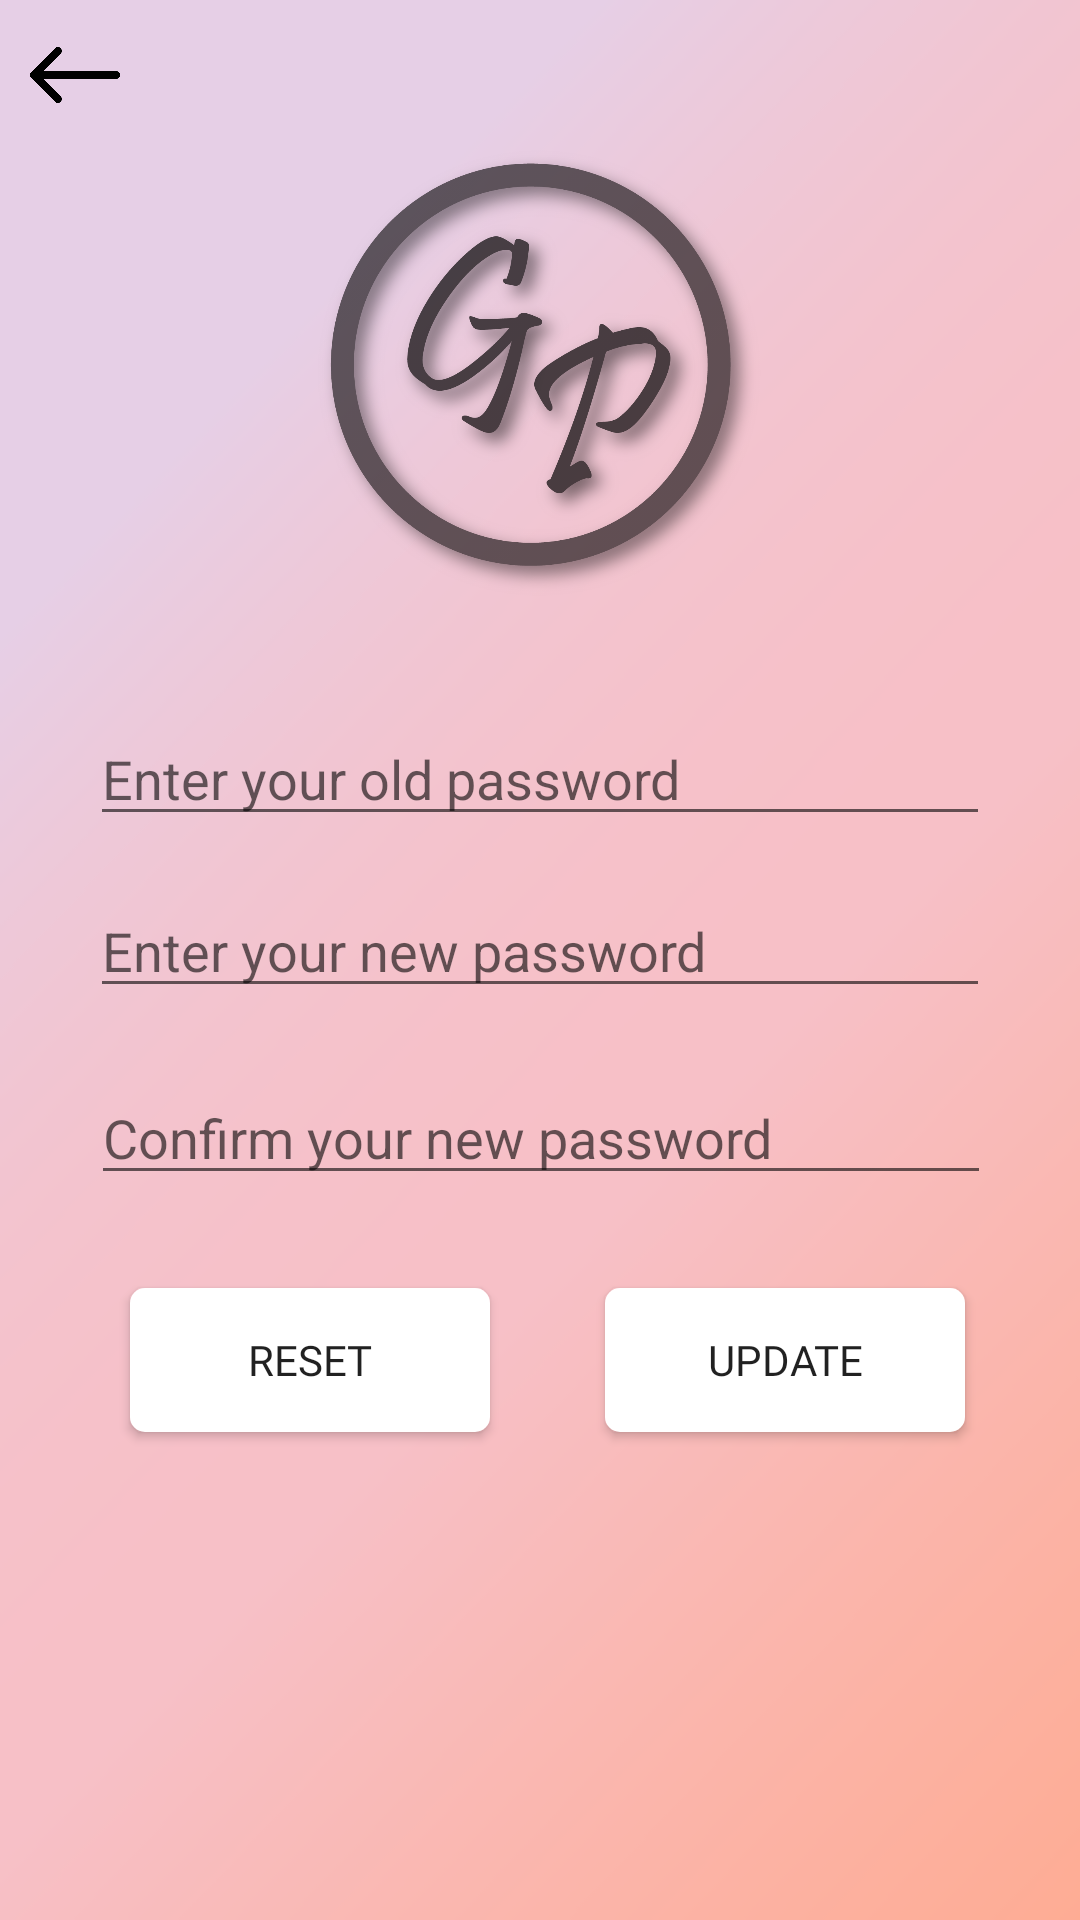

Where to tap for icons on this 1080*1920 app screen, as (x,y):
back: (75,75)
